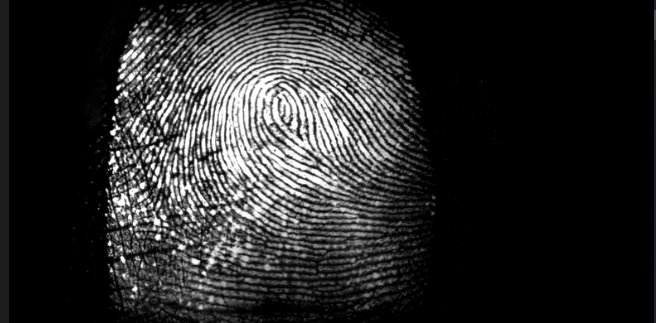nucelo: (261, 87, 304, 136)
verticilo: (310, 142, 339, 167), (142, 194, 168, 221)
